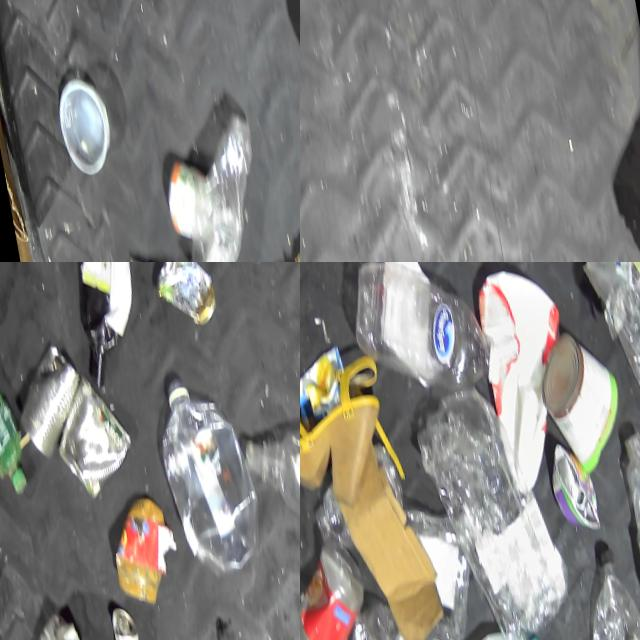can: (530, 324, 630, 486), (42, 366, 140, 509), (4, 337, 92, 467), (544, 439, 604, 544), (145, 262, 219, 338), (157, 156, 205, 246), (99, 602, 151, 640)
milk_jug: (468, 262, 589, 507)
plastic_bottle: (146, 363, 270, 592), (340, 262, 505, 421), (158, 108, 280, 262), (304, 439, 409, 555), (236, 407, 300, 589), (570, 543, 640, 640), (614, 422, 640, 640), (319, 593, 438, 640)
